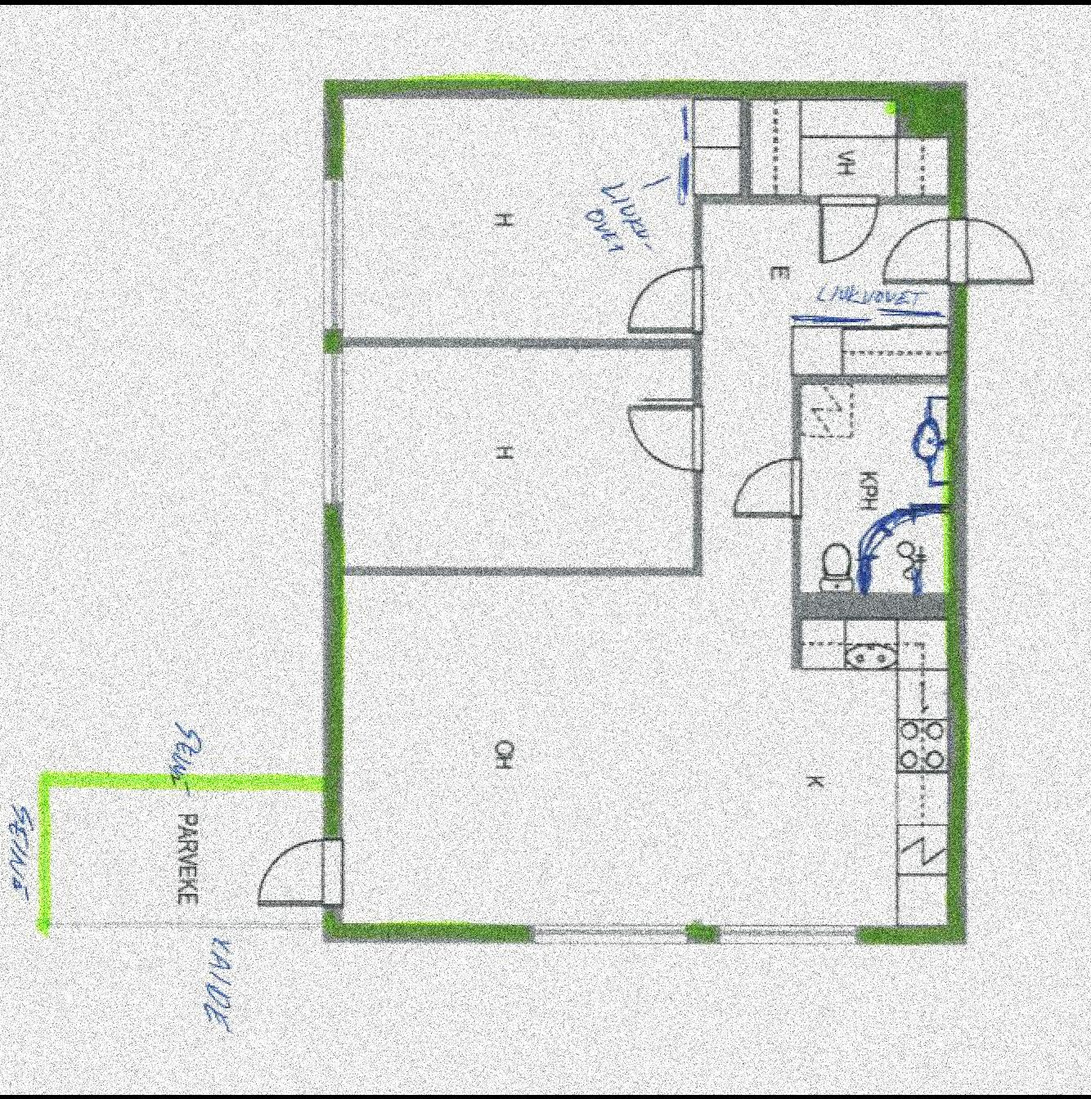door: (877, 209, 1039, 290), (253, 824, 351, 915), (726, 440, 824, 526), (613, 397, 706, 471), (626, 262, 706, 337), (817, 195, 877, 267)
window: (316, 354, 345, 506), (719, 918, 861, 947), (321, 184, 348, 332), (532, 923, 685, 944)
zone: (343, 209, 948, 920), (343, 103, 691, 336), (343, 345, 694, 569), (46, 792, 321, 926), (801, 387, 945, 596), (699, 100, 942, 198)
